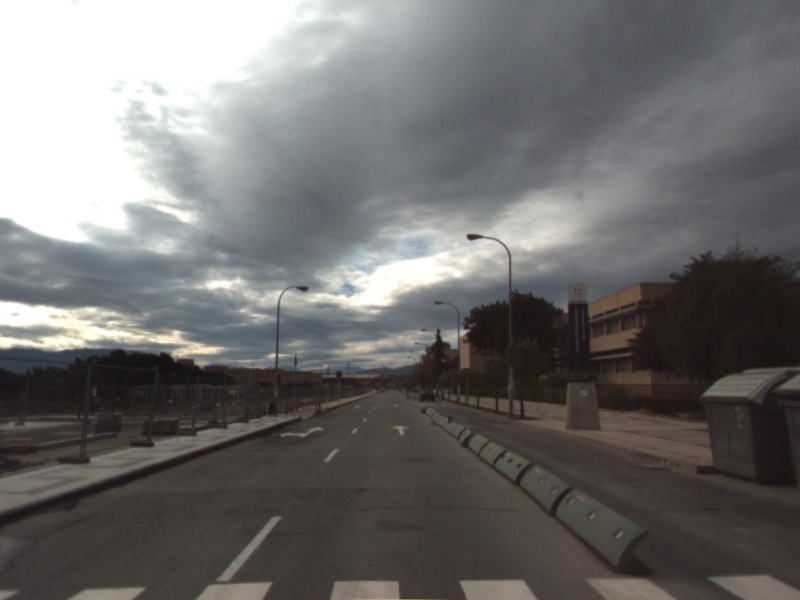STRAIGHT: (389, 422, 412, 437)
STRAIGHT_LEFT: (278, 424, 326, 440)
